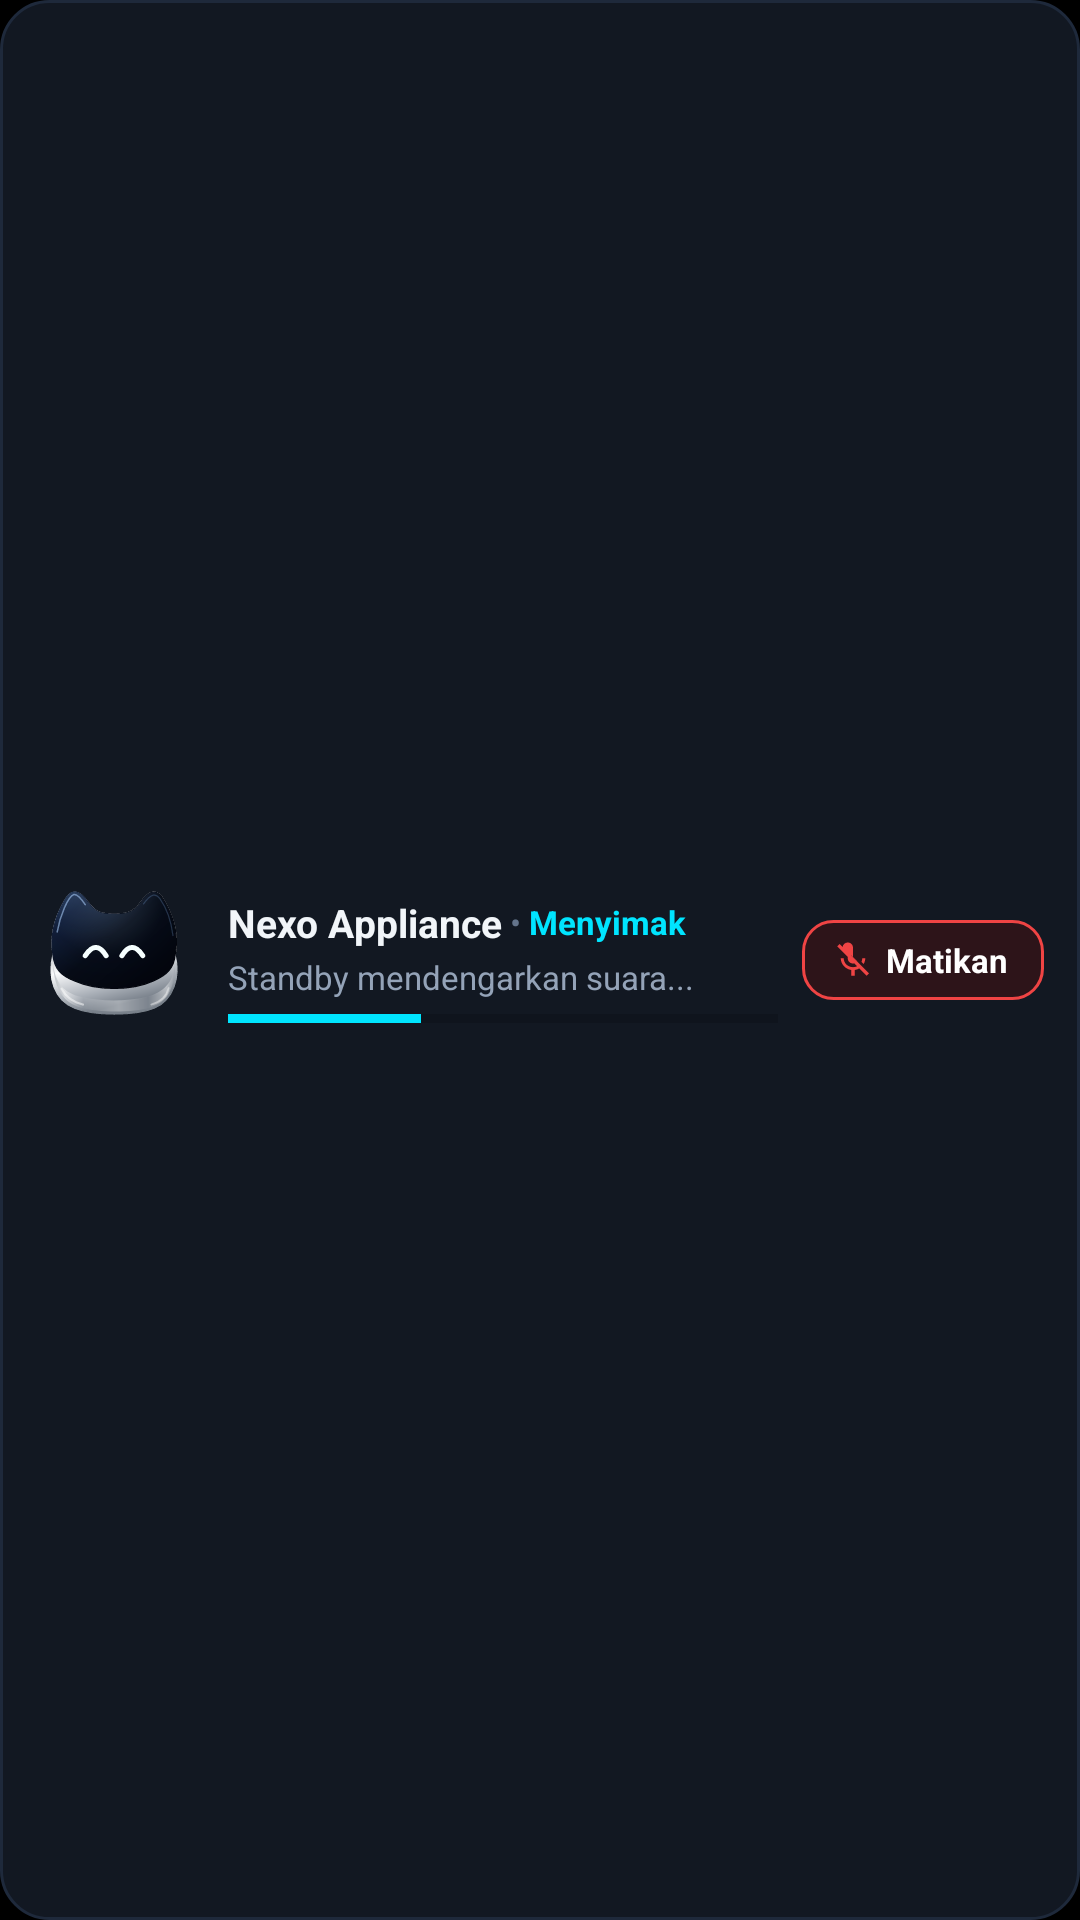

Icons on this 1080px x 1920px Android screen, each with the point to tap as [x,y]:
mascot senang: [114,953]
mic off: [853,959]
